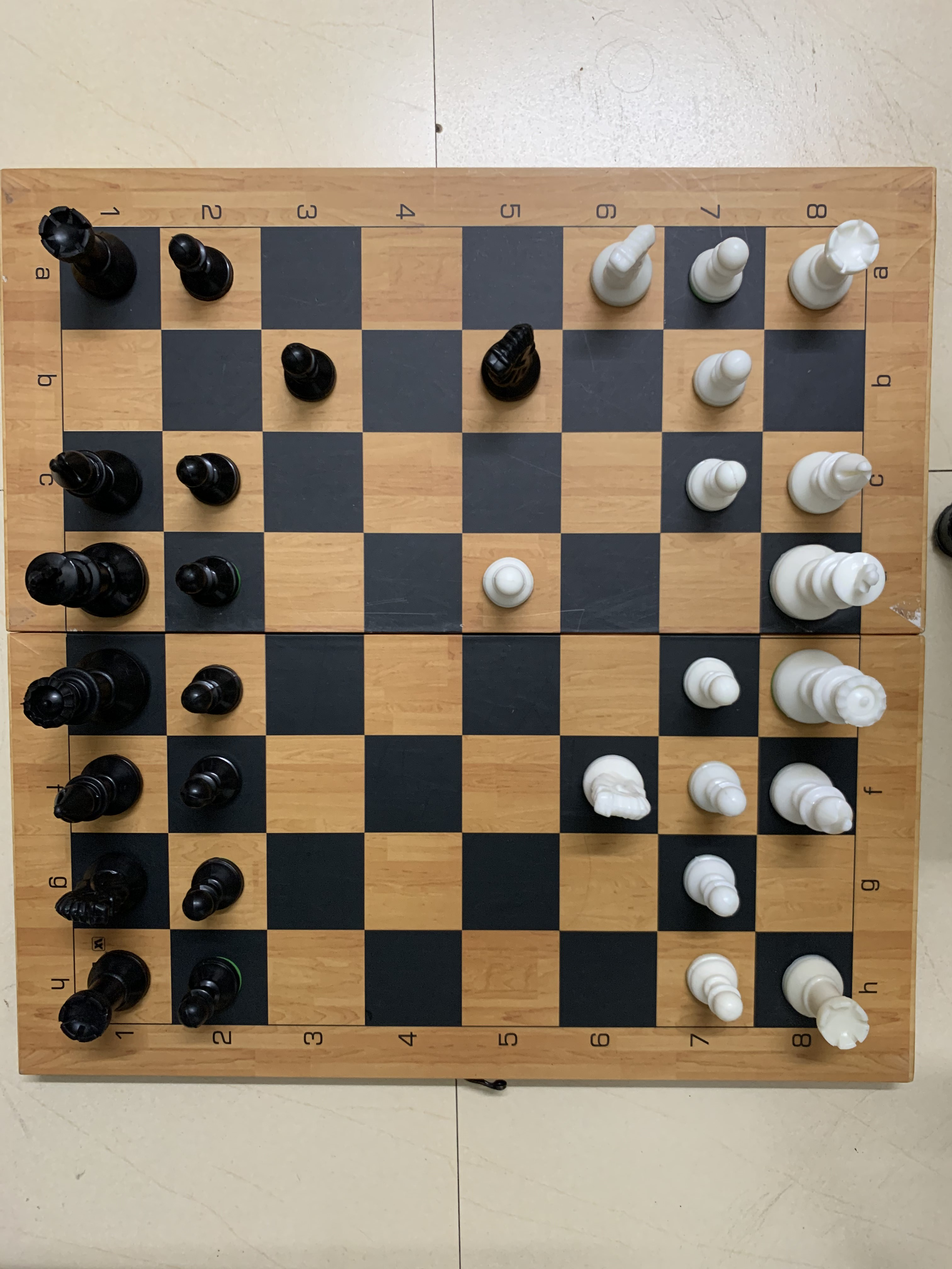black_bishop: (41, 444, 150, 533), (41, 751, 149, 834)
black_king: (3, 529, 163, 640)
black_knight: (35, 849, 164, 941), (460, 324, 558, 420)
black_pawn: (172, 933, 261, 1050), (168, 838, 279, 929), (258, 326, 354, 425), (167, 431, 259, 533), (167, 527, 256, 628), (156, 225, 252, 318), (168, 748, 259, 838), (183, 630, 249, 740)
black_queen: (16, 644, 159, 742)
black_rook: (28, 200, 144, 317), (41, 945, 153, 1051)
white_bishop: (763, 740, 875, 851), (774, 427, 890, 528)
white_king: (759, 534, 900, 634)
white_knight: (562, 219, 673, 327), (557, 746, 654, 837)
white_pawn: (656, 927, 762, 1038), (456, 529, 564, 635), (658, 633, 759, 739), (669, 331, 762, 433), (666, 439, 762, 528), (669, 222, 766, 309), (664, 856, 761, 941), (671, 748, 761, 839)
white_queen: (762, 638, 898, 737)
white_rook: (770, 210, 900, 336), (773, 933, 892, 1060)
